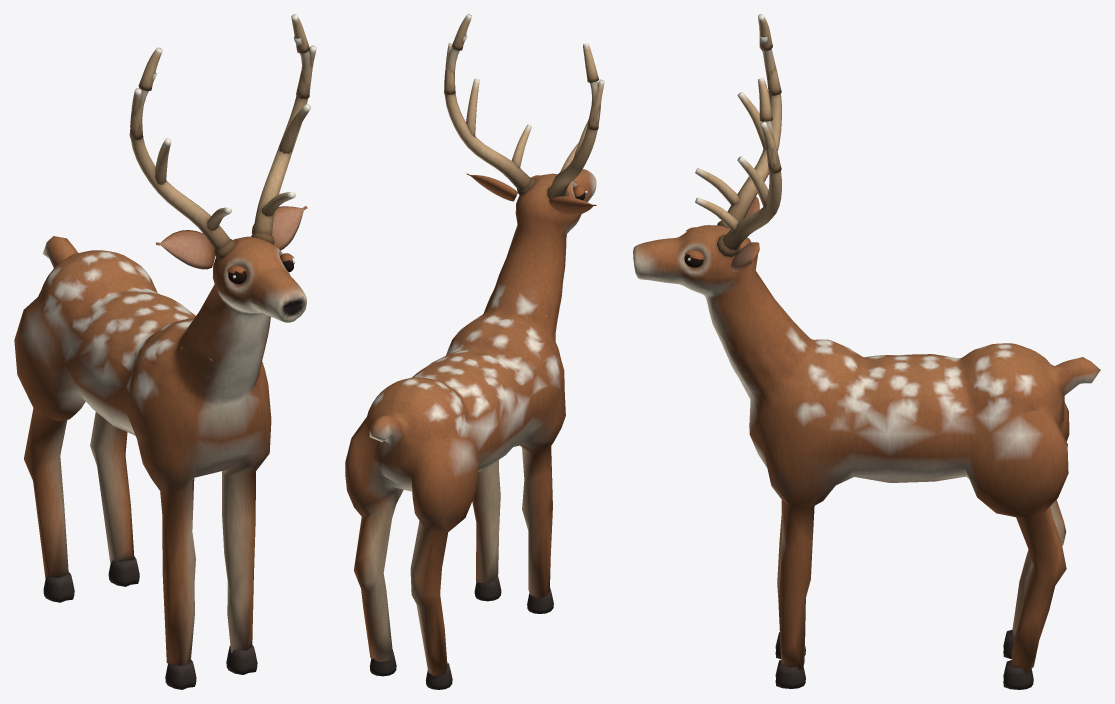
Rendered from stag.fbx.
3 renders of one model, left to right at view 1: azimuth 30°, elevation 25°; view 2: azimuth 150°, elevation 25°; view 3: azimuth 270°, elevation 25°, orthographic. The views are drawn at different scales.
Visible parts, largest first — view 1: Stag_Body; view 2: Stag_Body; view 3: Stag_Body.
Part boxes in pixels (left/top/right/bottom): Stag_Body: left=14, top=14, right=316, bottom=689; Stag_Body: left=345, top=14, right=604, bottom=689; Stag_Body: left=633, top=14, right=1100, bottom=689.
Bounding box in the file's own units: 1.16 × 4 × 2.72.
2 materials, 1 textured.
